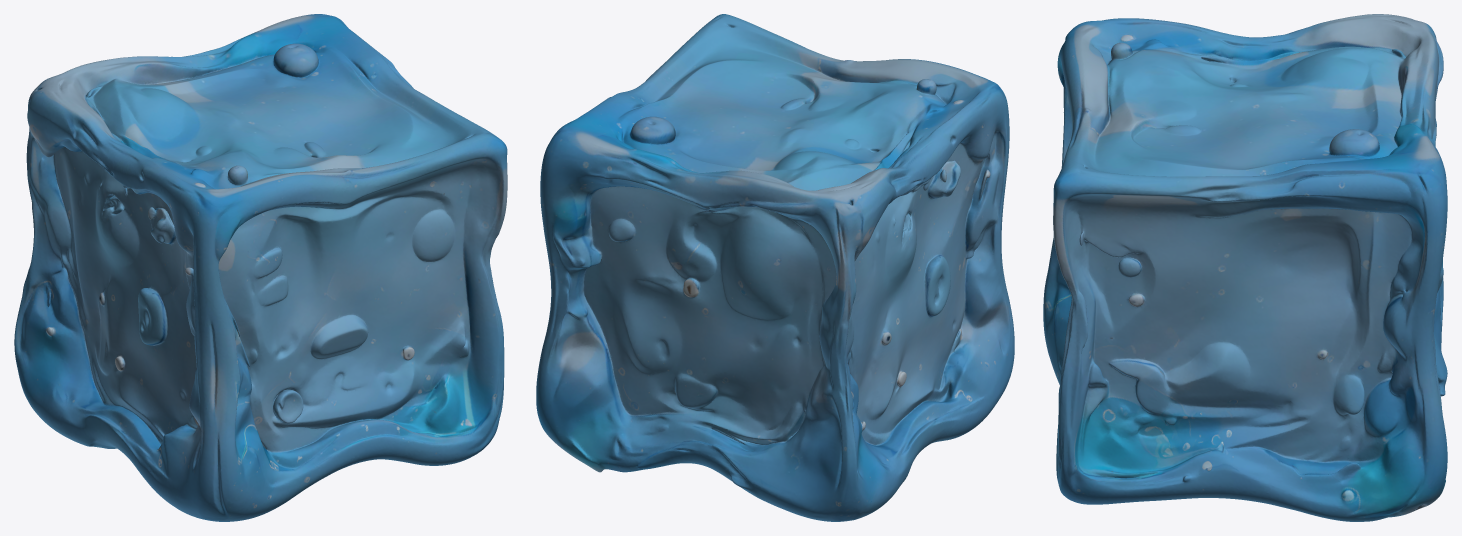
Rendered from IceCube.glb.
3 views of the same model, side by side, from view 1: azimuth 30°, elevation 25°; view 2: azimuth 150°, elevation 25°; view 3: azimuth 270°, elevation 25° (orthographic). The views are drawn at different scales.
Parts seen in each view (by area): view 1: tripo_node_e2a09dbc-502f-4336-ac9c-d7311a1246c6; view 2: tripo_node_e2a09dbc-502f-4336-ac9c-d7311a1246c6; view 3: tripo_node_e2a09dbc-502f-4336-ac9c-d7311a1246c6.
Boxes of the visible parts, x1,y1,x2,y2 form: tripo_node_e2a09dbc-502f-4336-ac9c-d7311a1246c6: (14, 14, 507, 521); tripo_node_e2a09dbc-502f-4336-ac9c-d7311a1246c6: (536, 14, 1014, 521); tripo_node_e2a09dbc-502f-4336-ac9c-d7311a1246c6: (1043, 14, 1447, 521).
Bounding box in the file's own units: 0.9999 × 0.9896 × 0.9992.
1 material, 1 textured.
